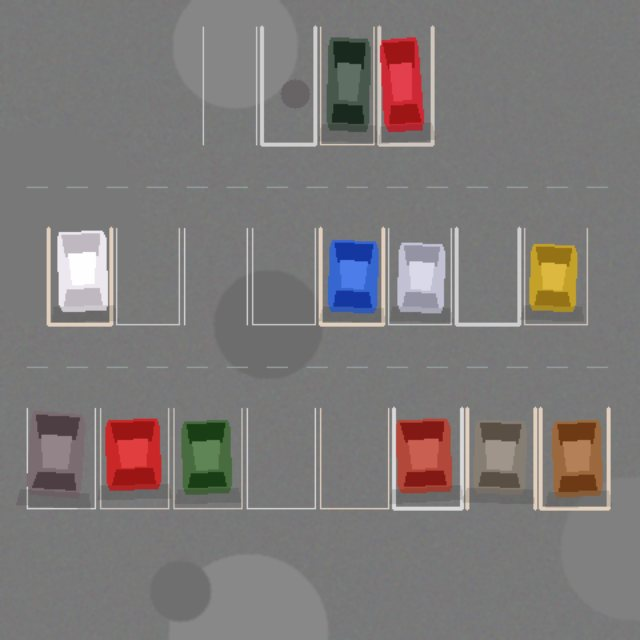space-empty: (247, 408, 315, 508), (320, 408, 388, 508), (261, 27, 315, 144), (203, 27, 256, 144), (116, 228, 179, 324), (184, 228, 247, 324), (252, 228, 315, 324), (456, 228, 519, 324)
space-occupied: (27, 408, 95, 508), (100, 408, 168, 508), (173, 408, 241, 508), (393, 408, 461, 508), (467, 408, 535, 508), (540, 408, 608, 508), (320, 27, 373, 144), (379, 27, 432, 144), (48, 228, 111, 324), (320, 228, 383, 324), (388, 228, 451, 324), (524, 228, 587, 324)
